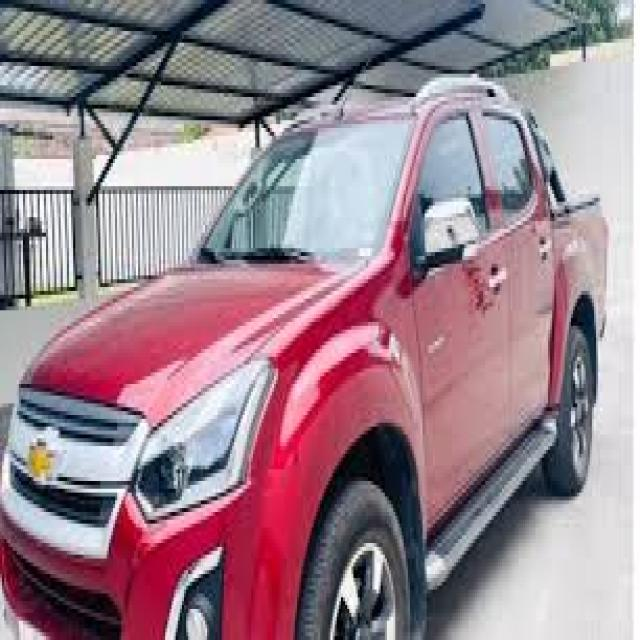CMT: (4, 85, 607, 637)
